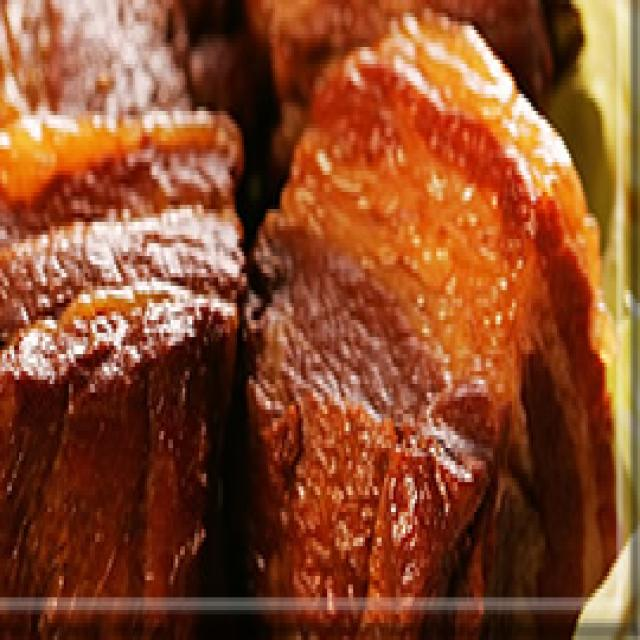猪肉菜式: (0, 0, 604, 576)
